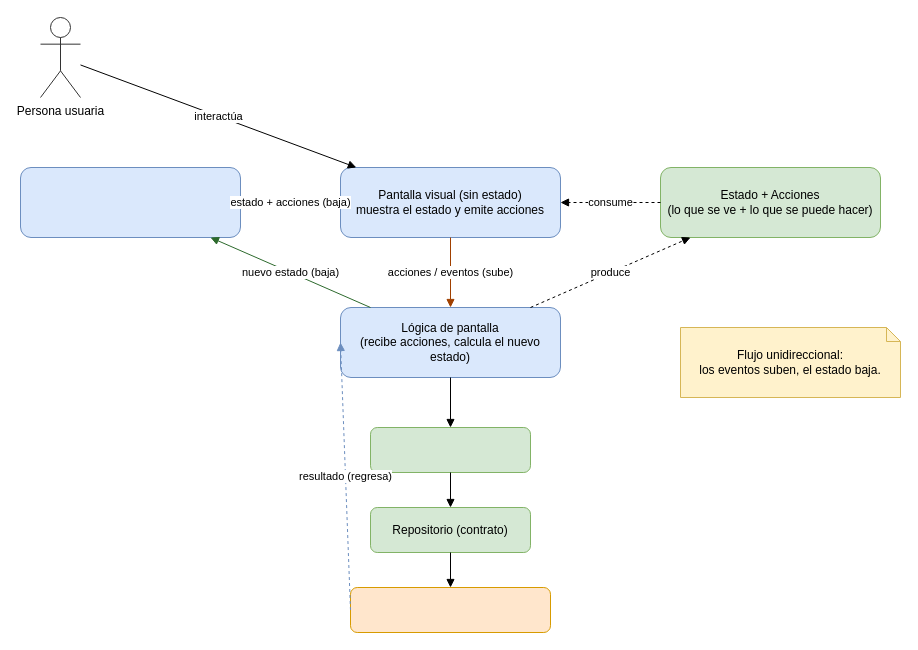
This 918x650 diagram has some shape labels left out. The shapes that lost their labels are listed below. From the top down, each one's centre as x and y in pixels, then its label:
At [130,202]: "Contenedor con estado (obtiene la lógica de pantalla y observa el estado)".
At [450,449]: "Caso de uso".
At [450,609]: "Fuente de datos (nube / local)".
